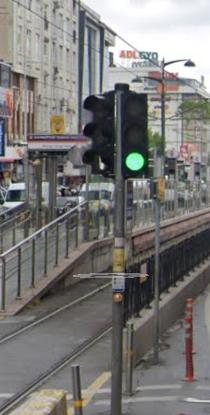greenlight: (120, 91, 149, 180)
